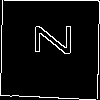Z: (24, 23, 71, 56)
